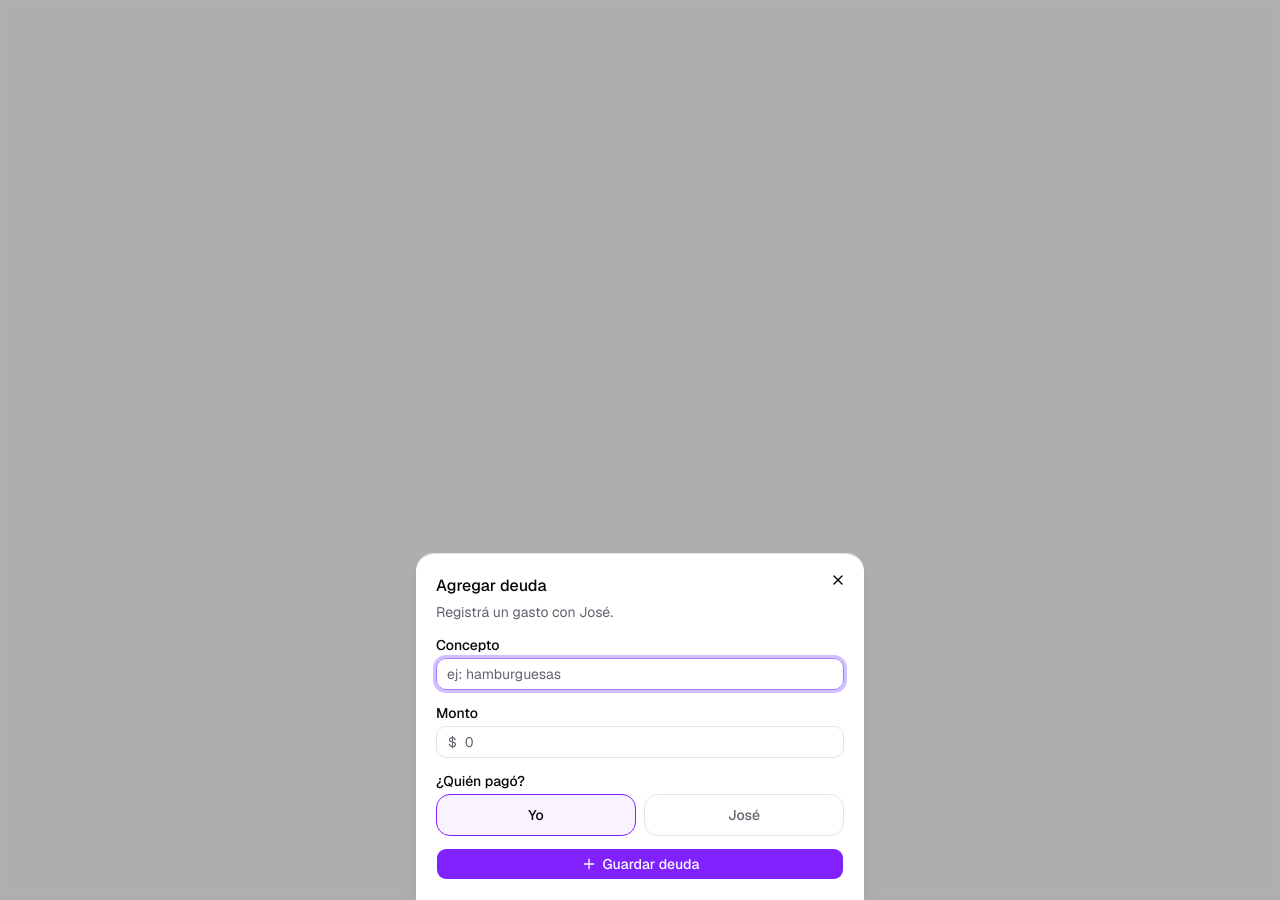
AddDebtSheet · feedback háptico › no vibra si el server rechaza la deuda
The width and height of the screenshot is (1280, 900).
Type "hamburguesas" into the field labelled "Concepto".
click(640, 674); type("hamburguesas")  # box [436, 658, 844, 690]
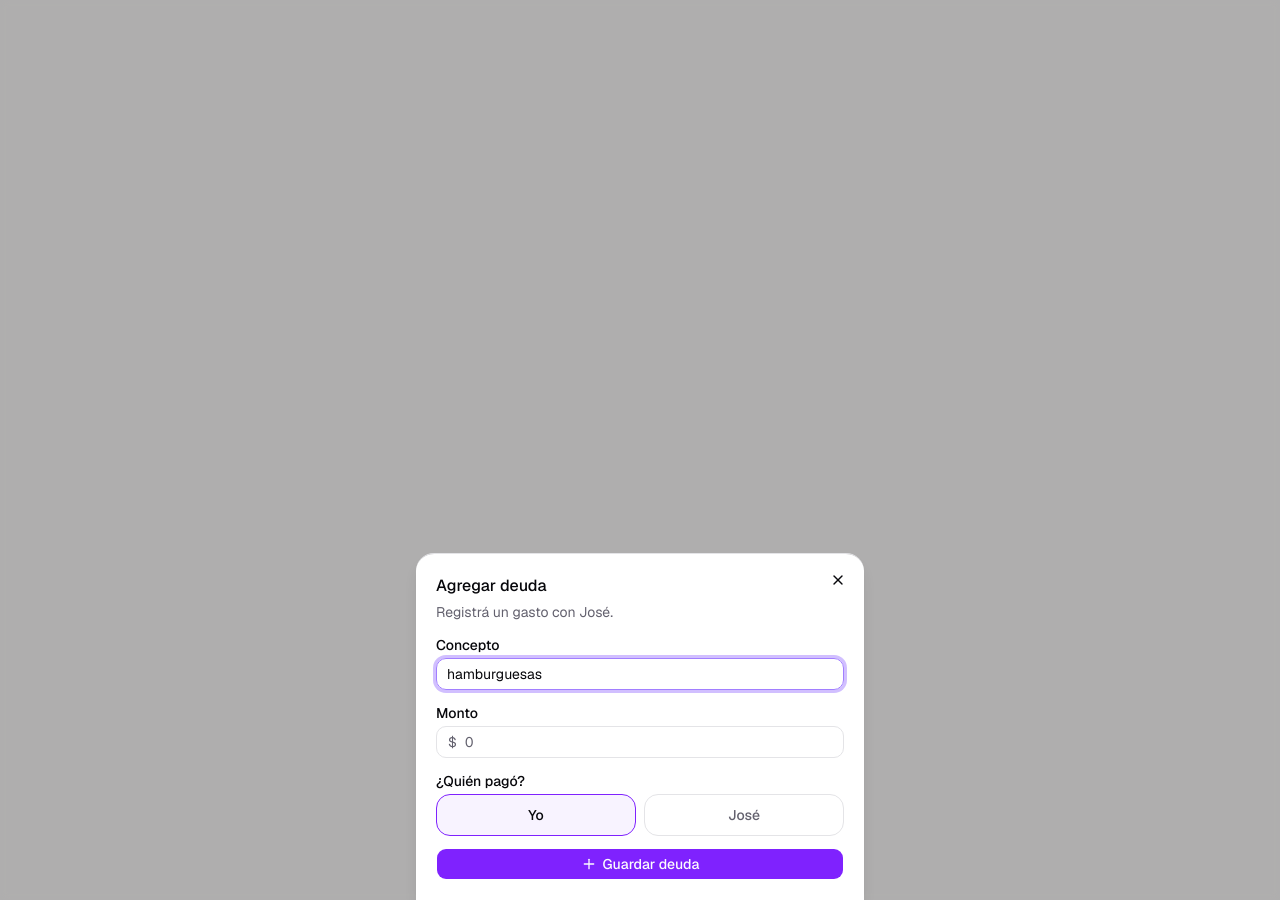
Type "500" into the field labelled "Monto".
click(640, 742); type("500")  # box [436, 726, 844, 758]
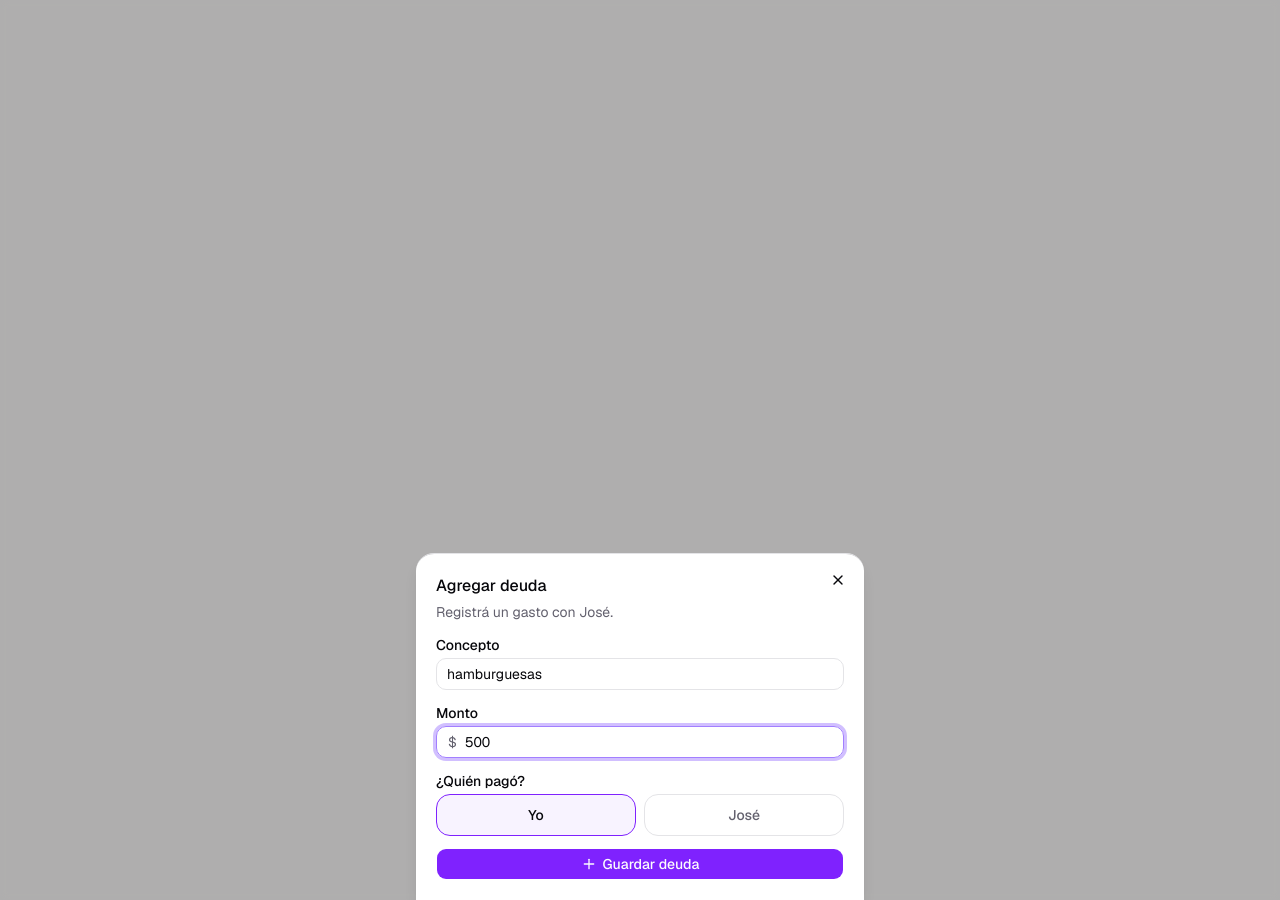
Click the button "Guardar deuda".
click(640, 864)  # box [436, 848, 844, 880]
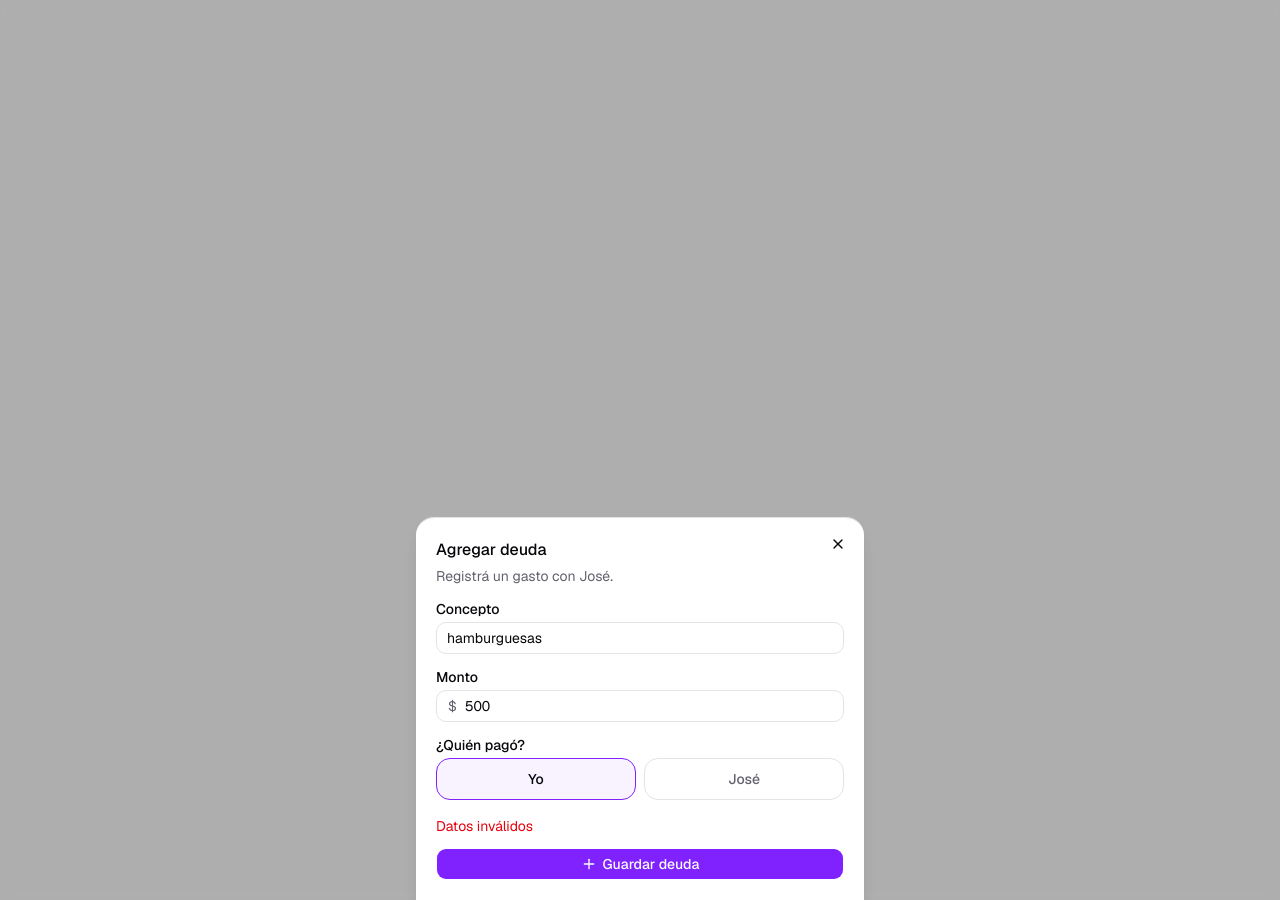
Now the text "Datos inválidos" is shown, box [436, 817, 533, 835]
